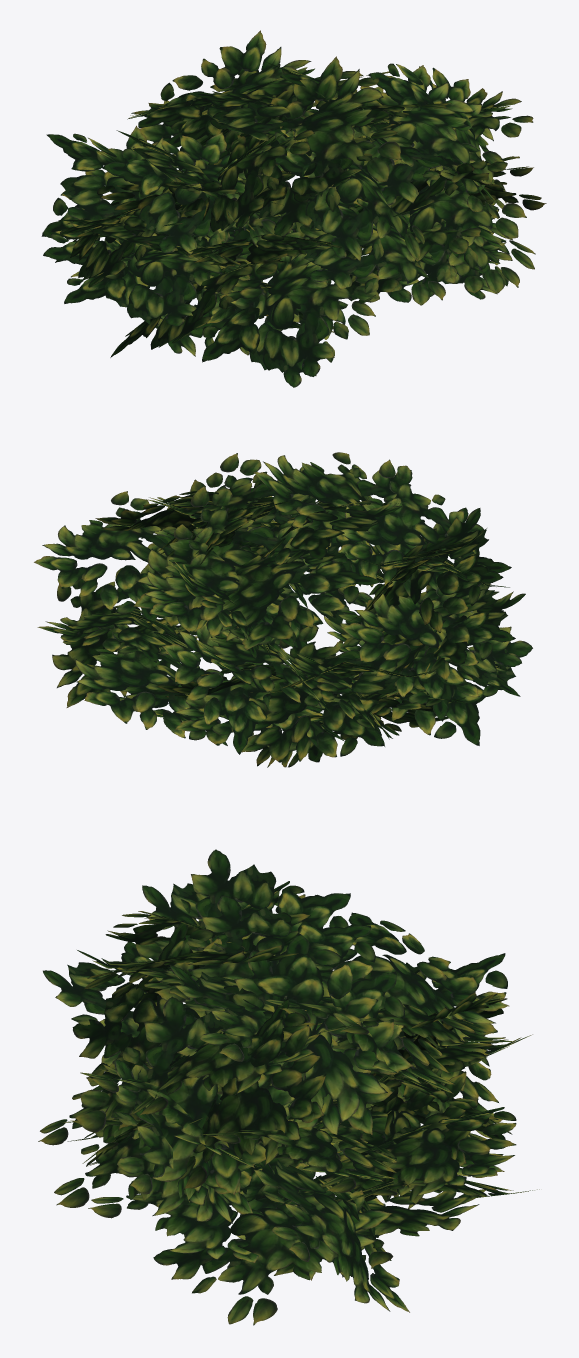
The model's file is bush (3).fbx.
3 views of the same model, one above another, from view 1: azimuth 30°, elevation 25°; view 2: azimuth 150°, elevation 25°; view 3: azimuth 270°, elevation 25° (orthographic). The views are drawn at different scales.
Parts seen in each view (by area): view 1: bush.050; view 2: bush.050; view 3: bush.050.
Boxes of the visible parts, bbox=[...] form: bush.050: bbox=[41, 30, 546, 387]; bush.050: bbox=[34, 452, 532, 767]; bush.050: bbox=[38, 849, 539, 1325].
Bounding box in the file's own units: 333 × 191 × 264.
